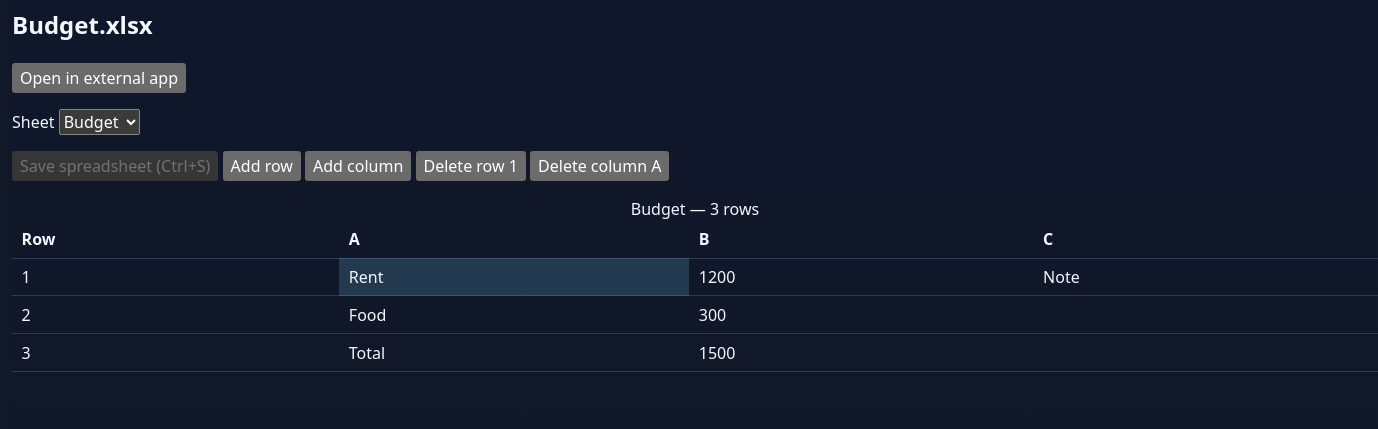
Test: spreadsheet grid › double-click edits, and Enter moves down while Shift+Enter moves up
Double-click the cell named "Row 2, column A, Food": (514, 315) left=339, top=296, right=689, bottom=334
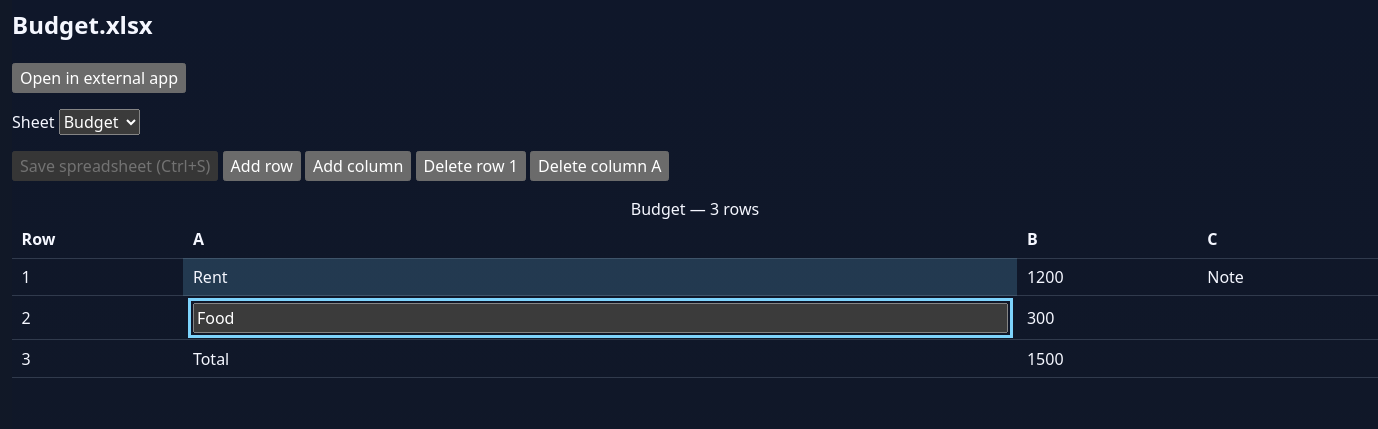
Replace the text in the field with "Snacks": (600, 318) left=193, top=303, right=1008, bottom=333
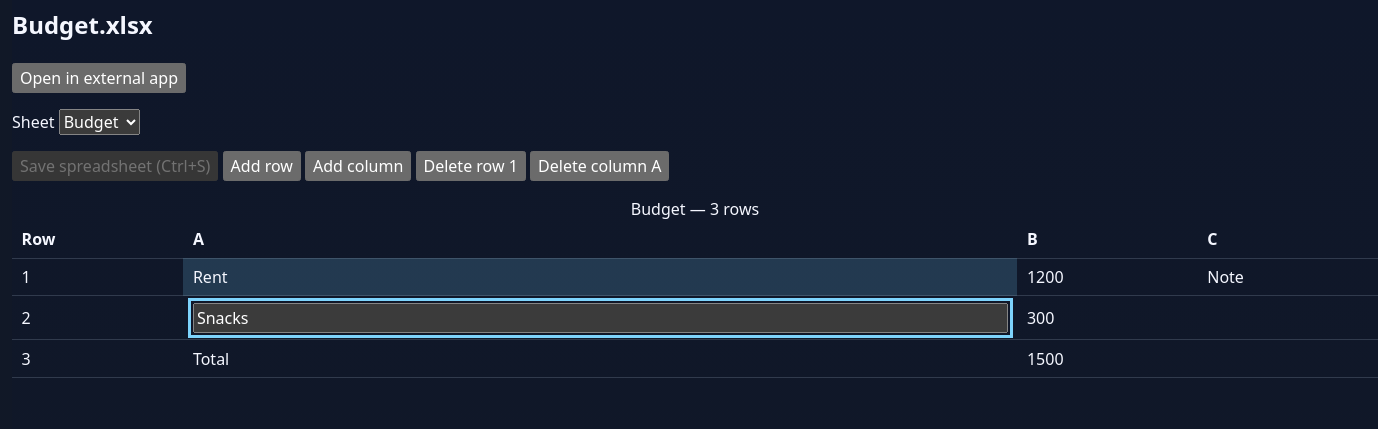
Press Enter in the field, box left=193, top=303, right=1008, bottom=333
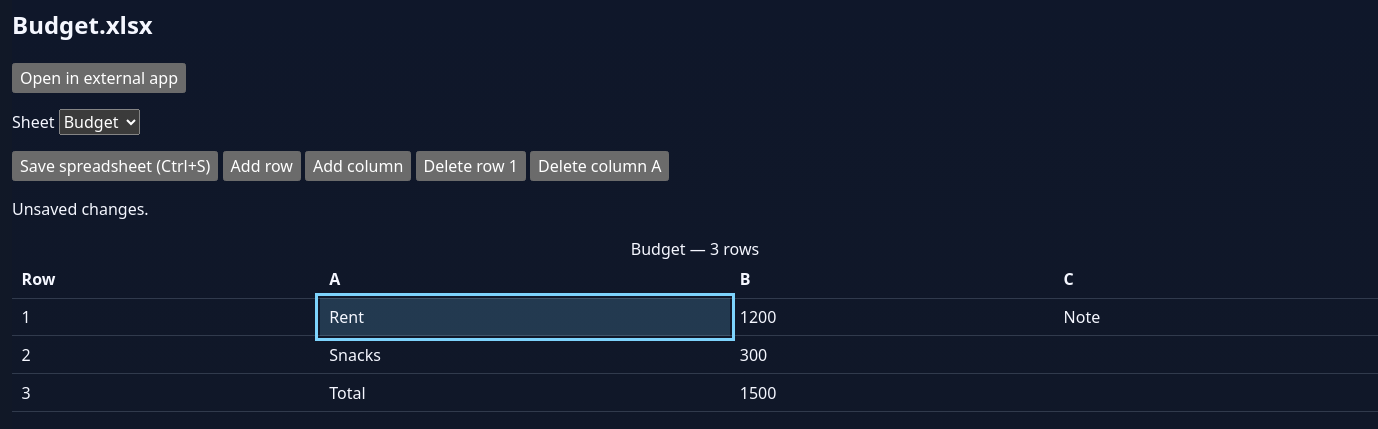
Result: the cell named "Row 2, column A, Snacks" is shown at left=320, top=336, right=730, bottom=374
